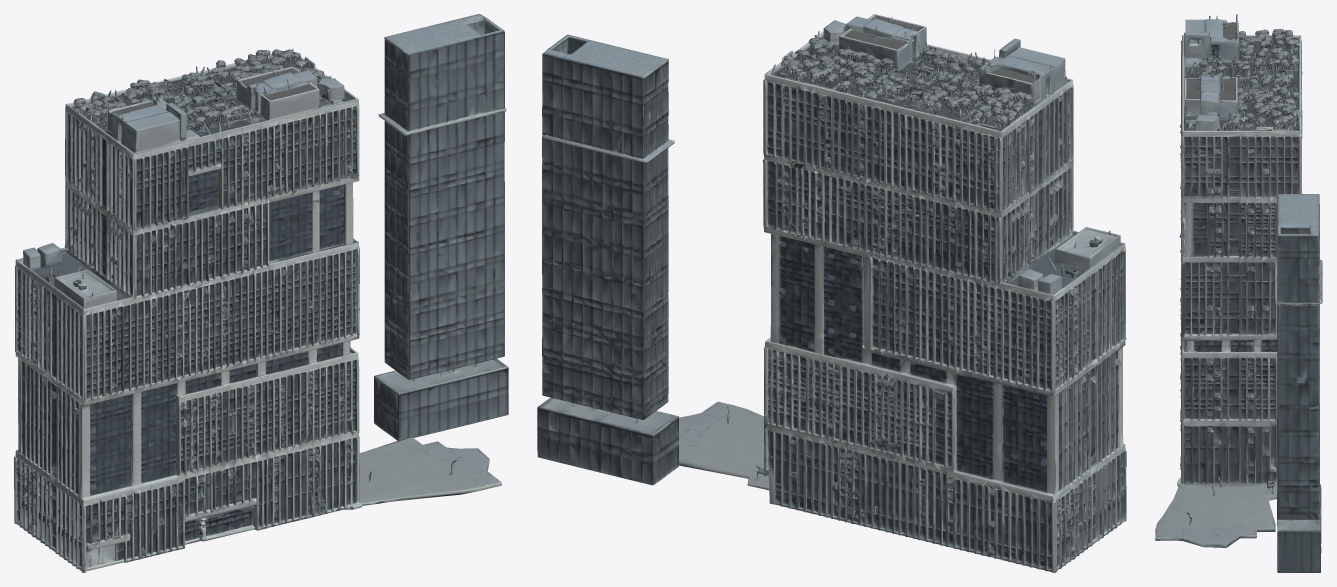
File: eaf27570-1887-41a5-8eca-eae21ba11cb5.glb
The picture shows the model from 3 angles, left to right: view 1: azimuth 30°, elevation 25°; view 2: azimuth 150°, elevation 25°; view 3: azimuth 270°, elevation 25°; orthographic projection. The views are drawn at different scales.
Bounding box in the file's own units: 1.77 × 1.52 × 0.6095.
Materials: 1 (1 with a texture image).
